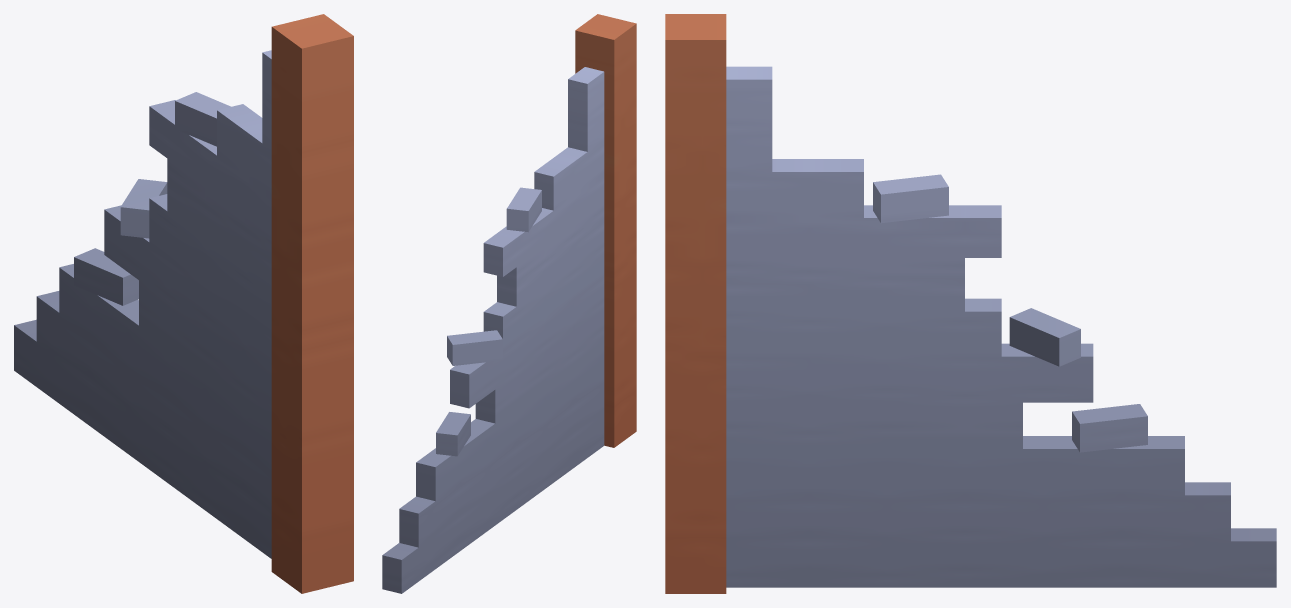
The model's file is wallBroken.fbx.
The picture shows the model from 3 angles, left to right: view 1: azimuth 30°, elevation 25°; view 2: azimuth 150°, elevation 25°; view 3: azimuth 270°, elevation 25°; orthographic projection. The views are drawn at different scales.
Parts seen in each view (by area): view 1: wallBroken; view 2: wallBroken; view 3: wallBroken.
Boxes of the visible parts, x1,y1,x2,y2 form: wallBroken: (14, 14, 353, 593); wallBroken: (382, 14, 636, 593); wallBroken: (665, 14, 1276, 593).
Size of the model in its own units: 0.1168 by 1 by 1.
